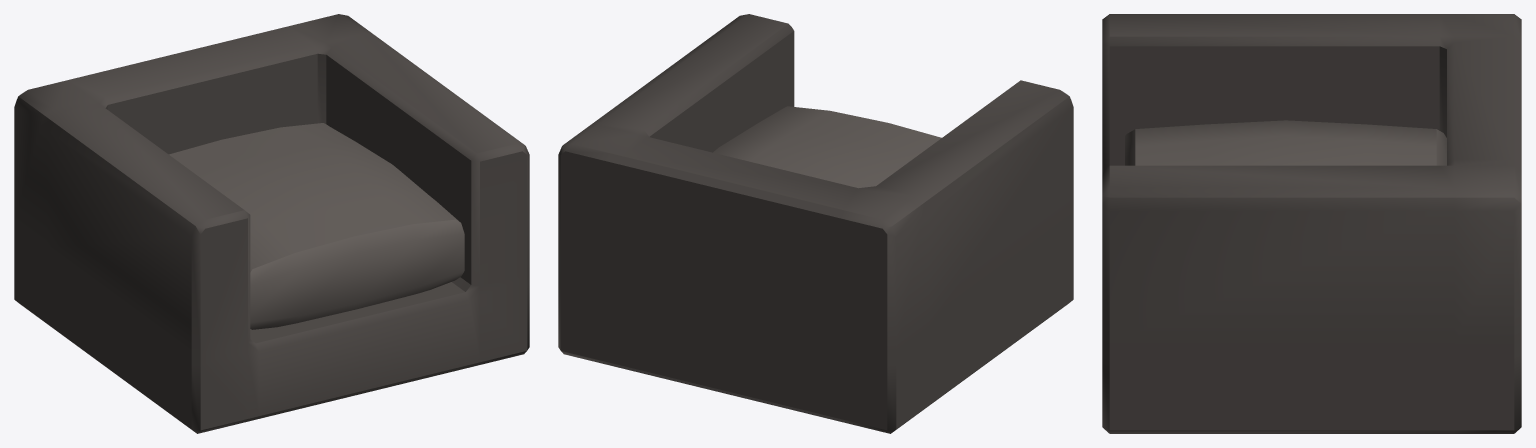
File: Couch_Small2.glb
The picture shows the model from 3 angles, left to right: view 1: azimuth 30°, elevation 25°; view 2: azimuth 150°, elevation 25°; view 3: azimuth 270°, elevation 25°; orthographic projection. The views are drawn at different scales.
Visible parts, largest first — view 1: Couch_Small2; view 2: Couch_Small2; view 3: Couch_Small2.
Part boxes in pixels (box(x1,y1,x2,y2)): Couch_Small2: box(14, 14, 529, 433); Couch_Small2: box(558, 14, 1073, 433); Couch_Small2: box(1102, 14, 1521, 433).
Bounding box in the file's own units: 1.03 × 0.6206 × 0.9742.
Materials: 2 (2 with a texture image).
